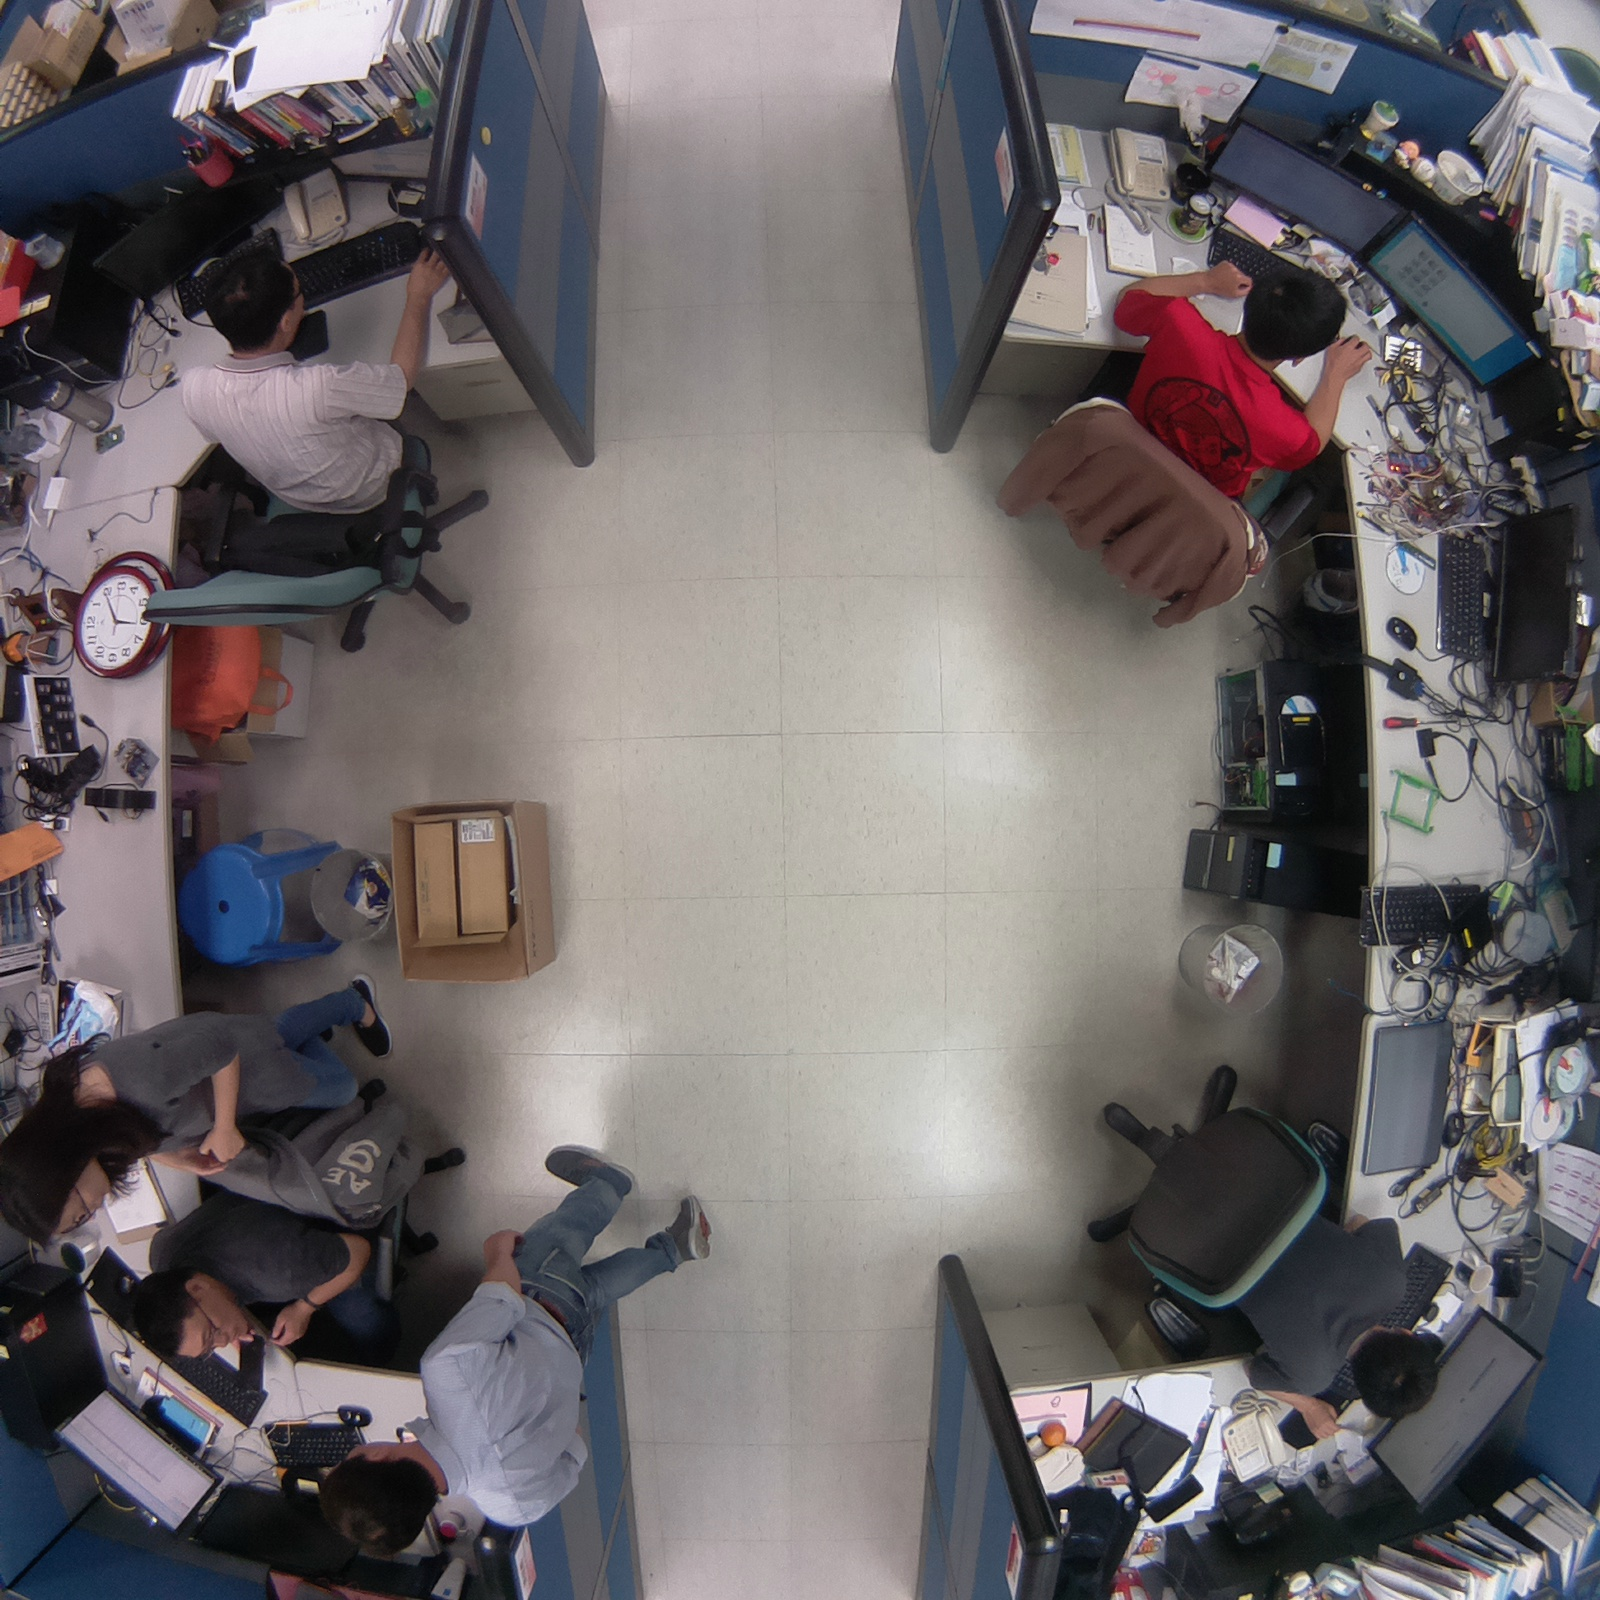head: (1, 1094, 115, 1259), (317, 1429, 443, 1563), (190, 235, 315, 349), (123, 1259, 241, 1367), (1233, 259, 1352, 367), (1343, 1322, 1443, 1425)
sitting: (978, 234, 1376, 642), (135, 237, 501, 678), (1070, 1058, 1450, 1457), (116, 1129, 453, 1367)
standing: (307, 1127, 719, 1569), (1, 969, 399, 1246)
